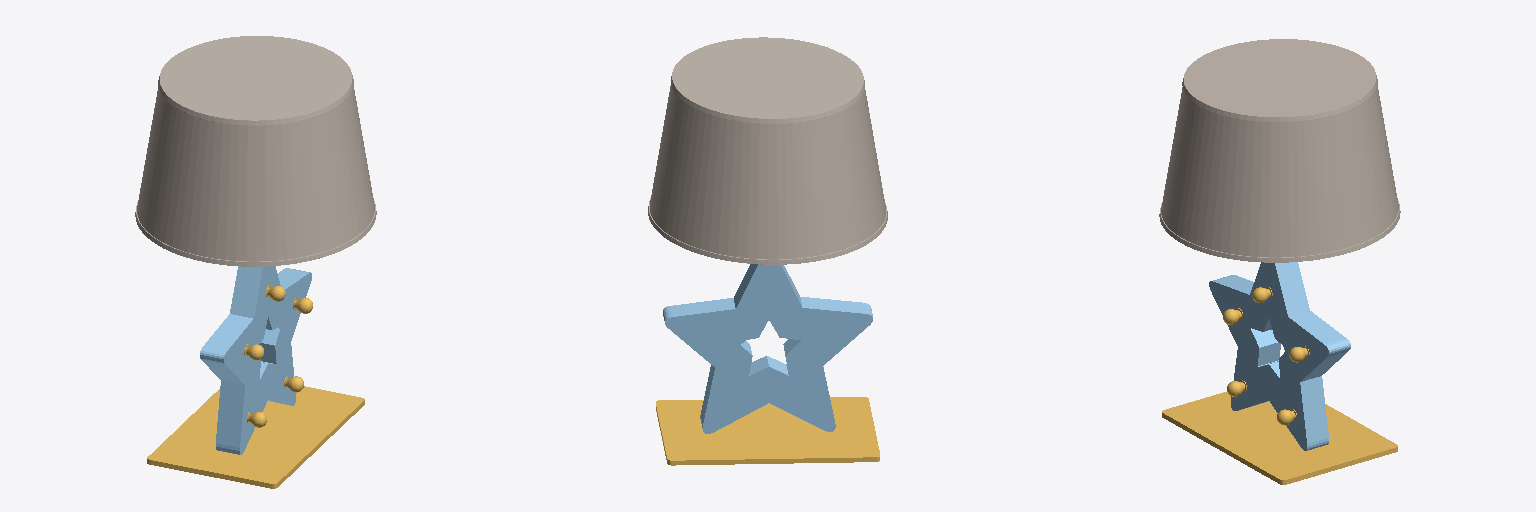
Rendered from Lamp.obj.
The picture shows the model from 3 angles: view 1: azimuth 30°, elevation 25°; view 2: azimuth 150°, elevation 25°; view 3: azimuth 270°, elevation 25°; orthographic projection.
Parts seen in each view (by area): view 1: Object01, Line012; view 2: Object01, Line012; view 3: Object01, Line012.
Boxes of the visible parts, box(x1,y1,x2,y2) form: Object01: box(135, 36, 376, 266); Line012: box(147, 266, 364, 488); Object01: box(648, 37, 887, 264); Line012: box(656, 264, 879, 465); Object01: box(1159, 39, 1400, 262); Line012: box(1162, 262, 1397, 484).
Size of the model in its own units: 84.93 by 133 by 80.66.